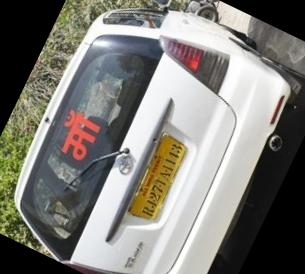plate: (108, 114, 209, 241)
